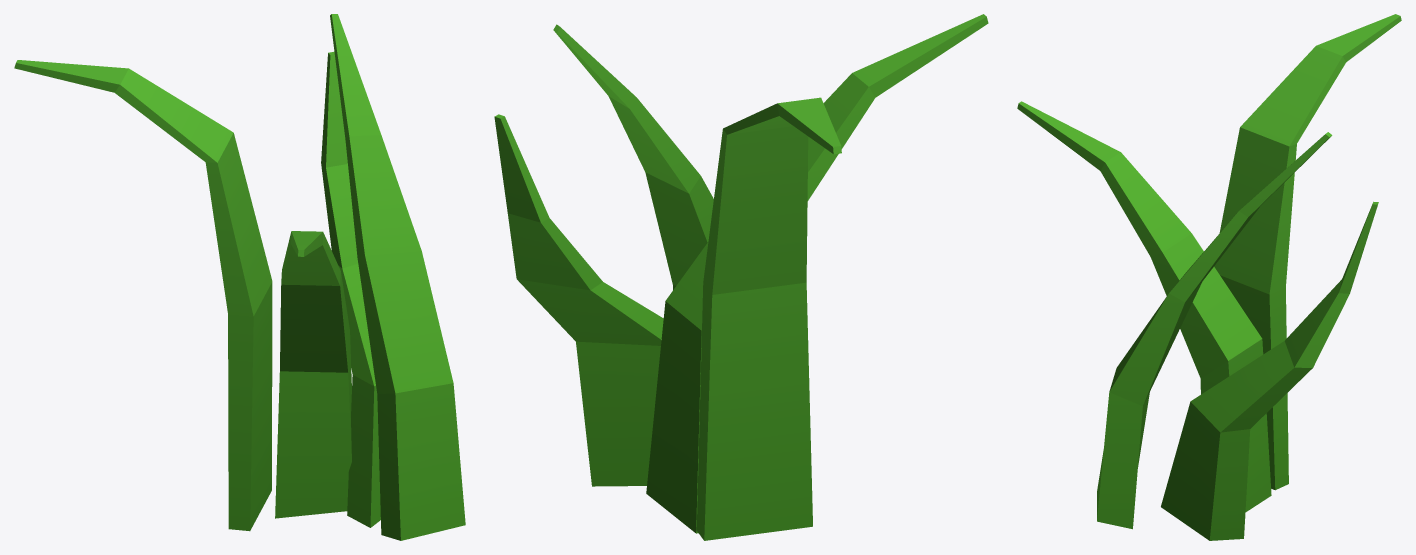
File: grass_9.fbx
The picture shows the model from 3 angles, left to right: view 1: azimuth 30°, elevation 25°; view 2: azimuth 150°, elevation 25°; view 3: azimuth 270°, elevation 25°; orthographic projection. The views are drawn at different scales.
Visible parts, largest first — view 1: grass 9; view 2: grass 9; view 3: grass 9.
Boxes of the visible parts, x1=… form: grass 9: x1=14, y1=14, x2=465, y2=540; grass 9: x1=494, y1=14, x2=988, y2=540; grass 9: x1=1017, y1=14, x2=1401, y2=540.
Size of the model in its own units: 0.6645 by 0.597 by 0.7718.
